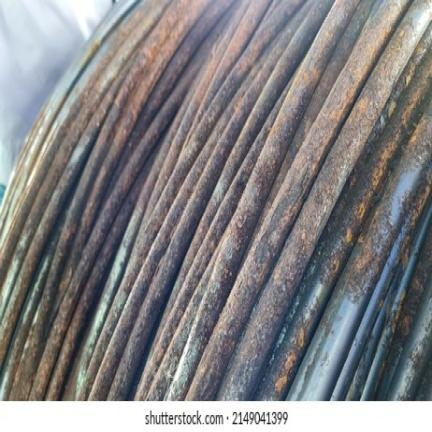karat: (187, 0, 431, 419)
